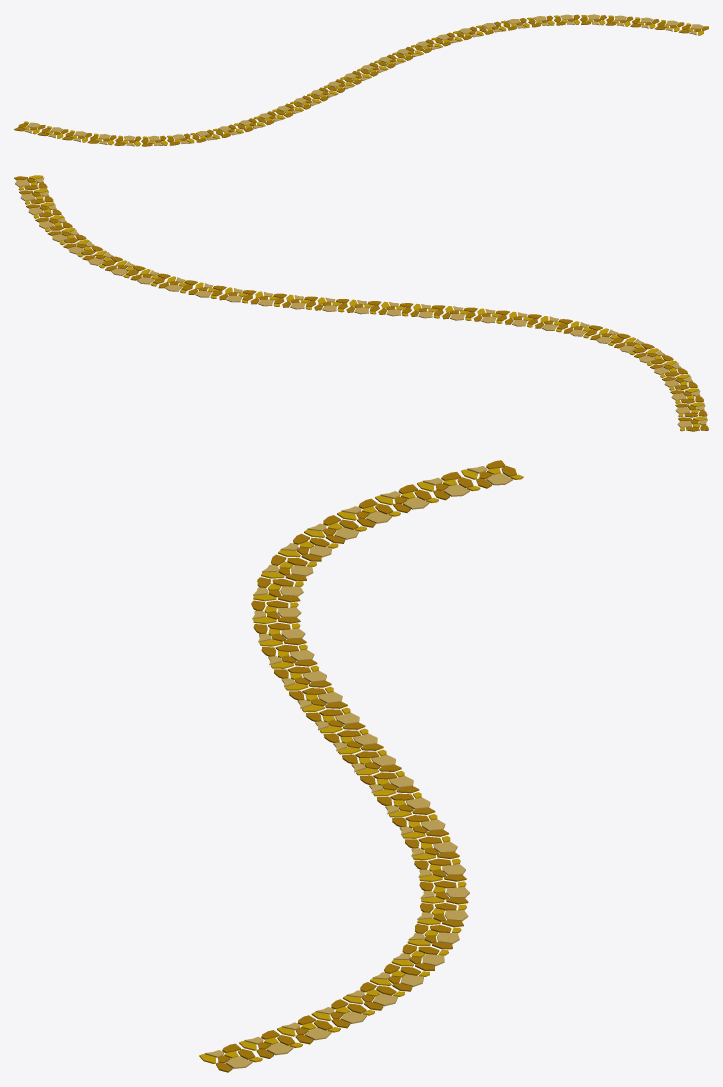
File: onlypathway.glb
The picture shows the model from 3 angles, top to bottom: view 1: azimuth 30°, elevation 25°; view 2: azimuth 150°, elevation 25°; view 3: azimuth 270°, elevation 25°; orthographic projection. The views are drawn at different scales.
Parts seen in each view (by area): view 1: Material2.006; view 2: Material2.006; view 3: Material2.006.
Boxes of the visible parts, x1=… form: Material2.006: x1=14, y1=14, x2=708, y2=146; Material2.006: x1=14, y1=175, x2=708, y2=431; Material2.006: x1=199, y1=460, x2=523, y2=1072.
Size of the model in its own units: 1159 by 5.56 by 260.
